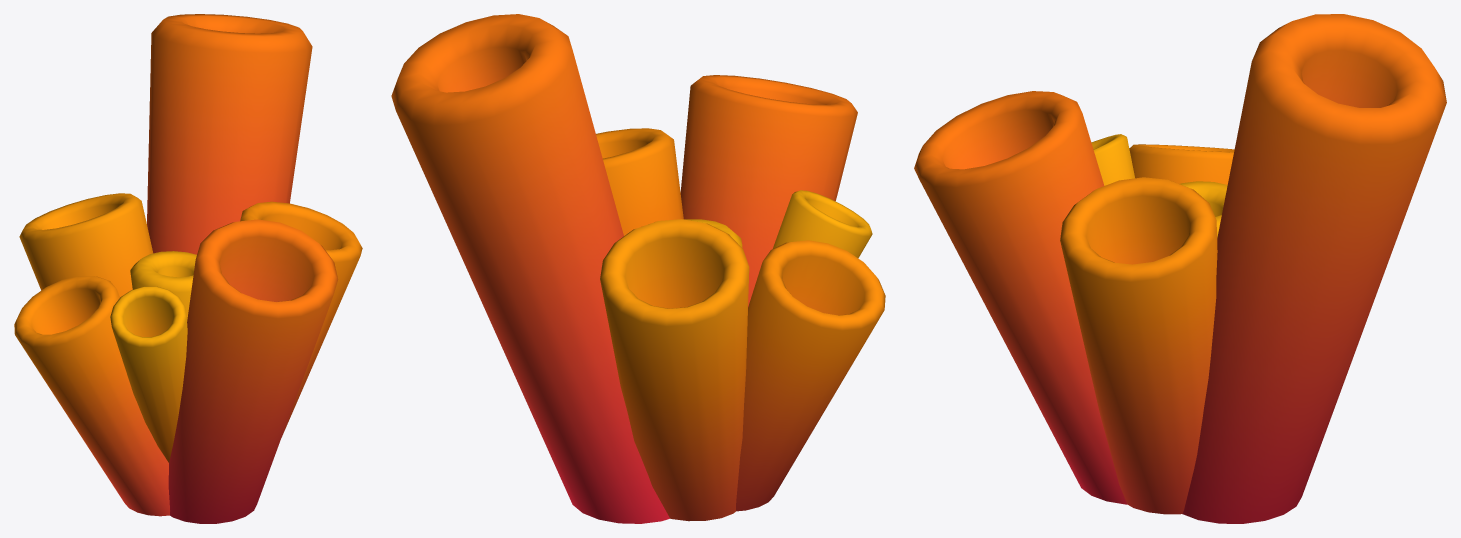
File: Orange_Coral_02.fbx
The picture shows the model from 3 angles, left to right: view 1: azimuth 30°, elevation 25°; view 2: azimuth 150°, elevation 25°; view 3: azimuth 270°, elevation 25°; orthographic projection. The views are drawn at different scales.
Parts seen in each view (by area): view 1: Orange_Coral_02; view 2: Orange_Coral_02; view 3: Orange_Coral_02.
Boxes of the visible parts, box(x1,y1,x2,y2) form: Orange_Coral_02: box(14, 14, 362, 523); Orange_Coral_02: box(391, 14, 885, 523); Orange_Coral_02: box(914, 14, 1446, 523).
Bounding box in the file's own units: 135 × 153 × 147.
